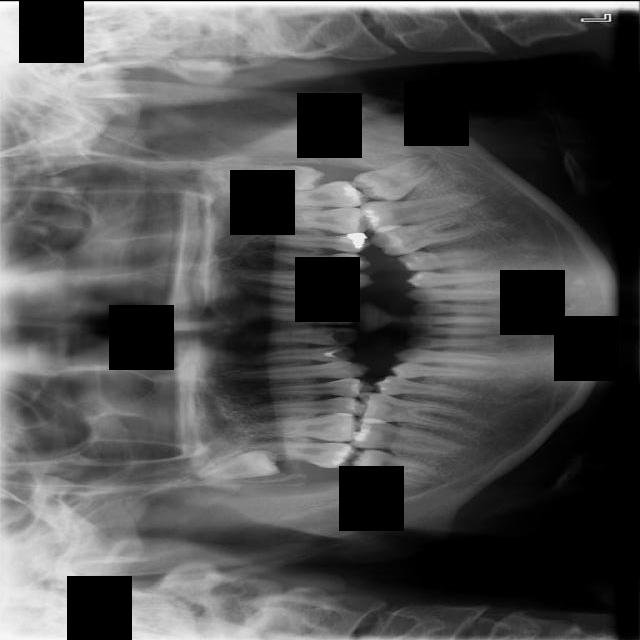3M ESPE Implant: (188, 445, 282, 488)
52: (347, 412, 402, 458), (360, 193, 413, 235), (319, 176, 370, 210), (331, 230, 373, 254)
73: (546, 76, 572, 78)
BioHorizons Implant: (252, 179, 369, 207)
BioLife Implant: (219, 156, 326, 192)
Biomet 3i Implant: (349, 149, 446, 212)
Blue Sky Bio Implant: (360, 192, 473, 233)
Caries: (243, 438, 361, 468)
Implant: (348, 415, 456, 455)
Keystone Dental Implant: (343, 445, 445, 490)
